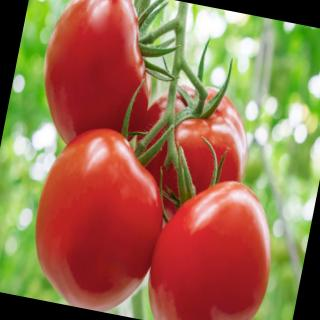Tomat: (20, 115, 182, 320), (138, 166, 289, 320), (29, 1, 170, 159)
